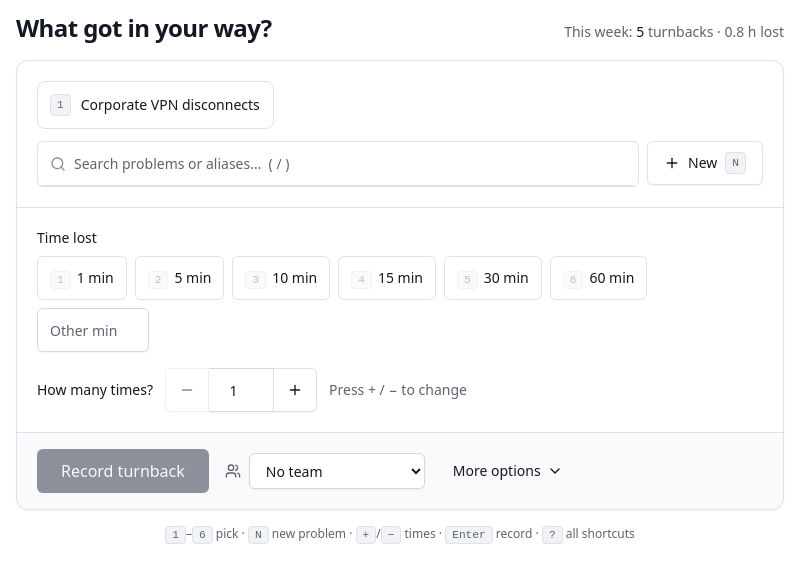
Test: RecordPage › shows server validation errors without losing the form
This screenshot has width=801, height=561.
What coordinates should you click on to do the following:
click the button "1 Corporate VPN disconnects"
I would click on:
 (155, 105)
Its box is [37,81,274,129].
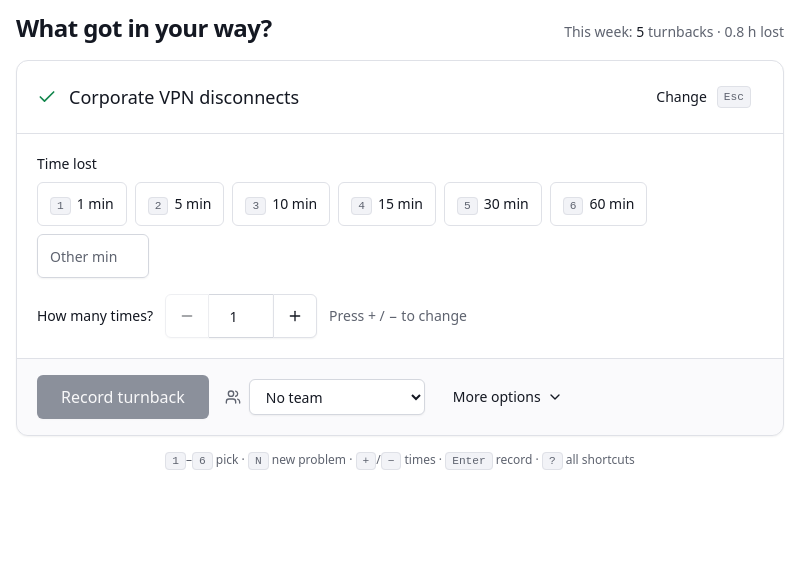
What coordinates should you click on to do the following:
click the radio button labelled "5 min"
I would click on:
 (180, 204)
Its box is [135,182,224,226].
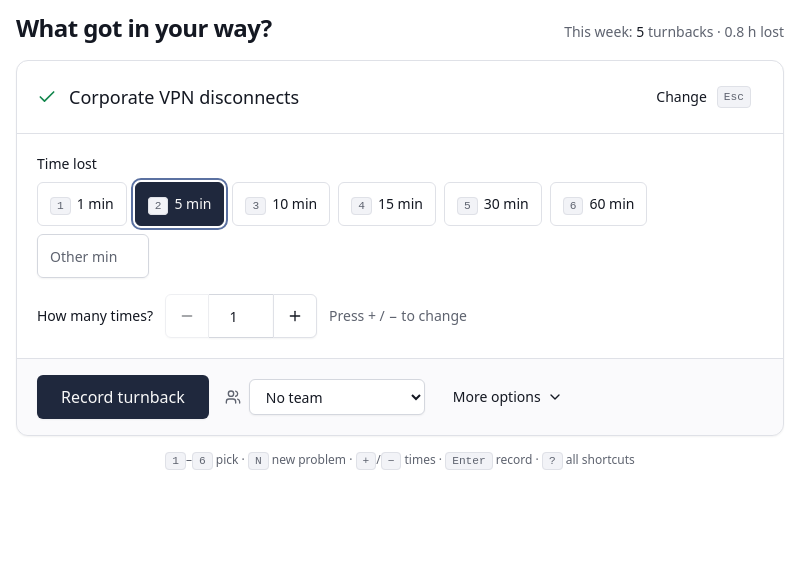
What coordinates should you click on to do the following:
click the button with test id "submit-turnback"
I would click on:
 (123, 397)
Its box is [37,375,209,419].
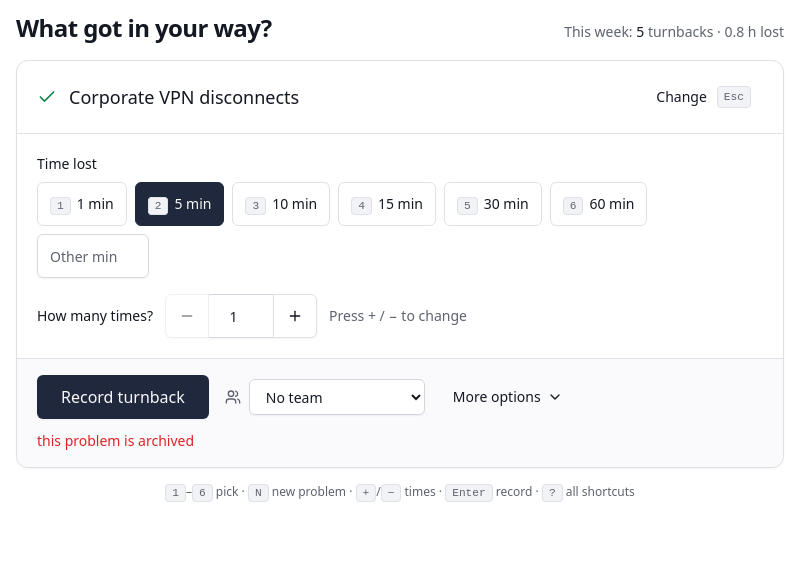
Expected: the text "Corporate VPN disconnects" is shown, [69,85,299,109]
Expected: the message reads "this problem is archived", [37,431,194,450]
